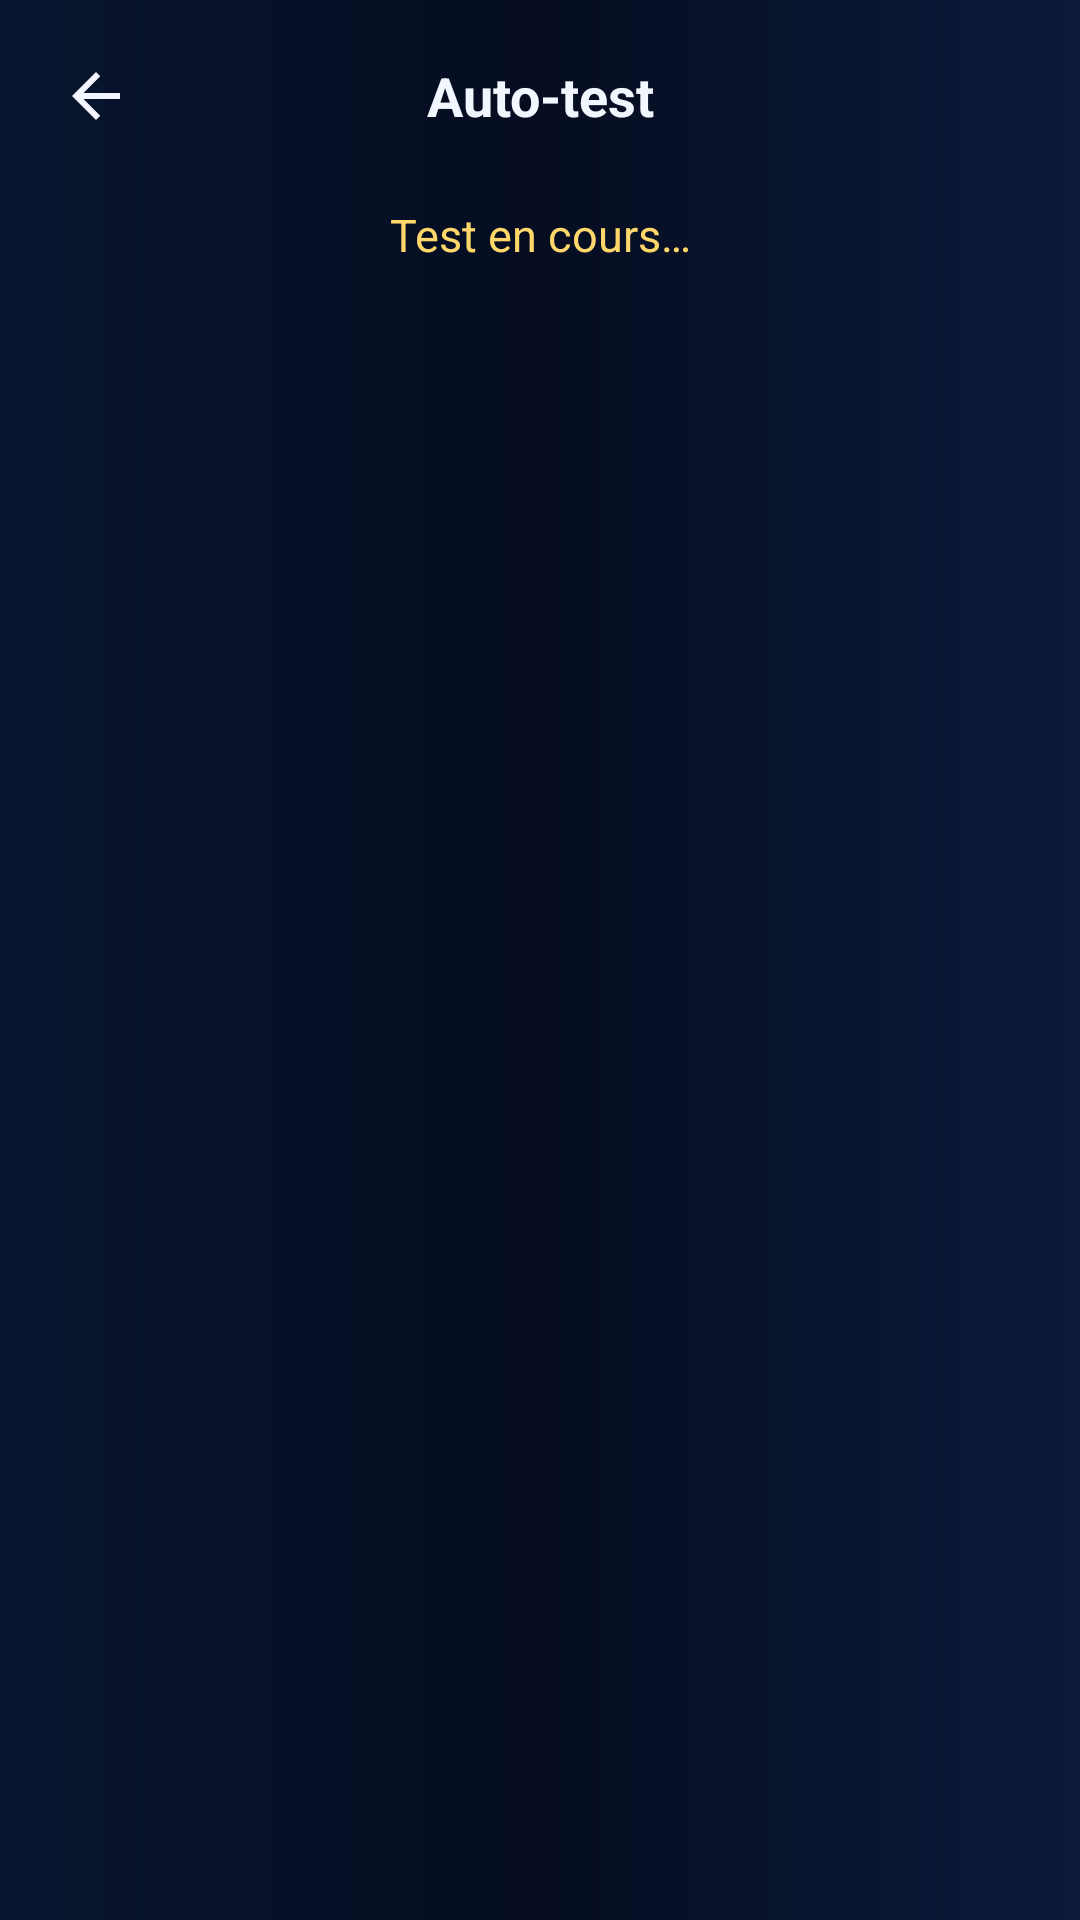

Where icons sit on this 1080×1920 app screen, as (left=x1, top=y1, right=x2, bottom=y2):
Retour: (left=72, top=72, right=120, bottom=120)
